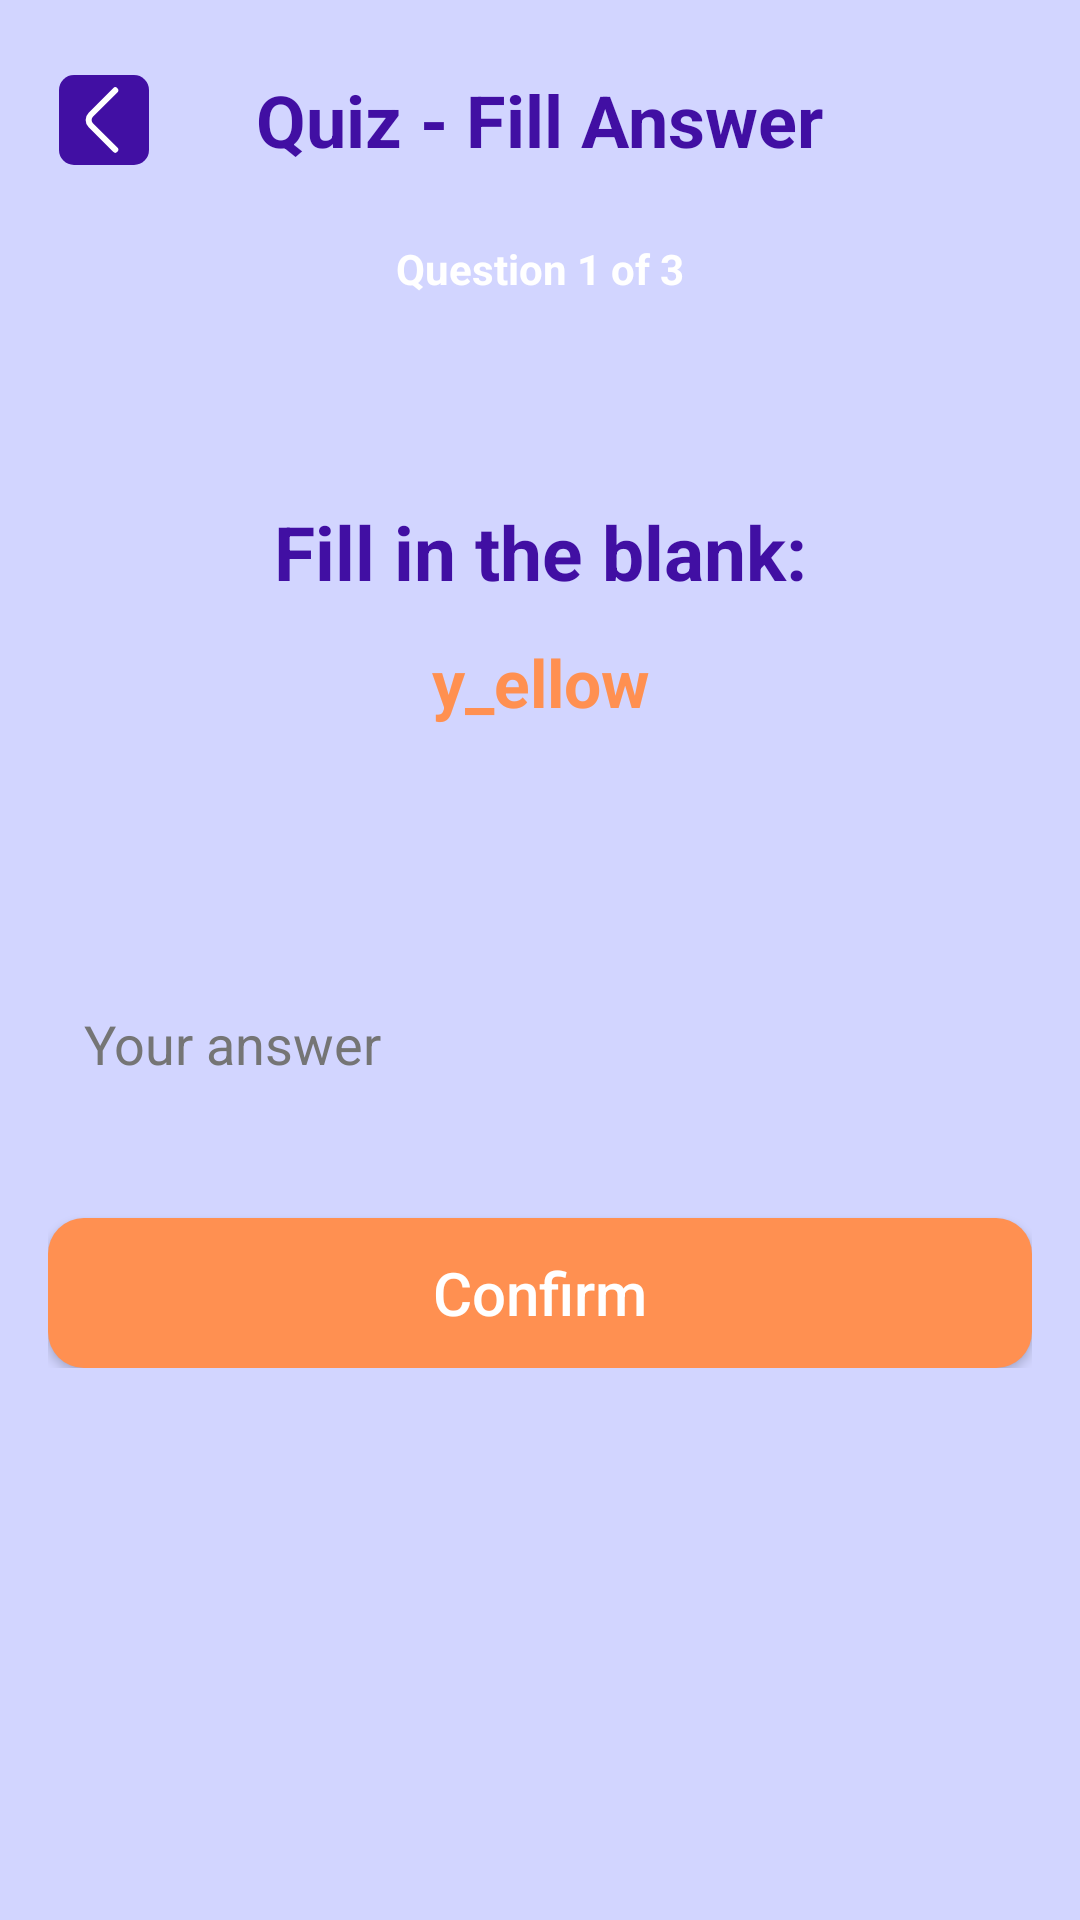

Icon bounding boxes for this 1080 x 1920 phone screenshot, format (x1, y1, x2, y2):
Back: (59, 75, 149, 165)
